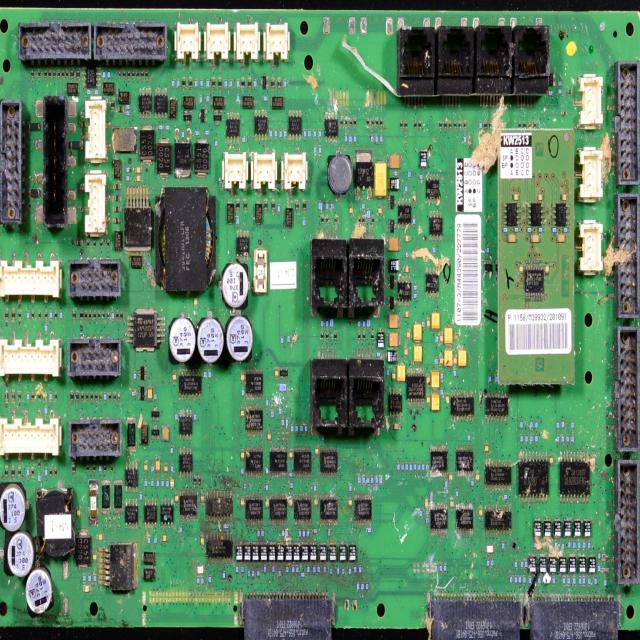Capacitor Jumper: (388, 152, 403, 169), (396, 364, 407, 386), (388, 333, 403, 349), (388, 235, 401, 252), (430, 392, 442, 410), (414, 343, 424, 363), (432, 310, 441, 332), (458, 349, 468, 368), (432, 371, 441, 392), (443, 327, 454, 344), (389, 314, 402, 328), (158, 531, 170, 546), (413, 322, 423, 340), (505, 232, 519, 244), (445, 347, 453, 368), (133, 165, 145, 176), (530, 233, 540, 246), (162, 424, 170, 440), (555, 233, 567, 243), (146, 387, 153, 404), (194, 565, 207, 574), (199, 534, 206, 549), (76, 503, 82, 520), (392, 422, 402, 432), (402, 265, 412, 274), (484, 442, 490, 457), (155, 457, 161, 472), (169, 475, 175, 490), (82, 585, 90, 596), (174, 490, 180, 504), (485, 545, 494, 554), (134, 173, 143, 182), (438, 354, 444, 367), (314, 445, 320, 458), (287, 447, 294, 458), (426, 393, 431, 408), (288, 495, 293, 510), (92, 550, 96, 568), (514, 192, 520, 204), (274, 369, 280, 381), (448, 472, 454, 484), (426, 317, 431, 331), (439, 332, 444, 346), (240, 494, 245, 508), (446, 390, 450, 407), (348, 495, 353, 508), (561, 193, 568, 202), (378, 205, 383, 217), (452, 356, 458, 366), (424, 497, 429, 509), (349, 203, 353, 217), (392, 368, 396, 382), (549, 454, 553, 468), (265, 497, 269, 511), (403, 345, 408, 356), (544, 266, 550, 275), (407, 329, 411, 342), (426, 374, 430, 387), (476, 471, 480, 484), (314, 497, 319, 507), (98, 535, 104, 543), (538, 194, 544, 202), (404, 310, 410, 318), (144, 460, 148, 472), (450, 498, 454, 510), (240, 448, 244, 459), (518, 266, 524, 273), (240, 375, 245, 383), (240, 408, 244, 418), (268, 429, 271, 438)
IC: (99, 546, 137, 594), (124, 184, 152, 249), (517, 451, 548, 504), (559, 451, 590, 503), (484, 503, 512, 538), (205, 491, 234, 522), (405, 366, 426, 408), (484, 460, 512, 490), (205, 532, 234, 560), (449, 388, 474, 420), (484, 392, 509, 424), (293, 493, 314, 527), (244, 492, 264, 526), (319, 493, 339, 526), (269, 492, 287, 528), (269, 444, 287, 480), (354, 494, 373, 528), (524, 266, 543, 300), (252, 108, 270, 142), (320, 444, 338, 478), (245, 368, 264, 400), (429, 446, 448, 478), (429, 504, 448, 535), (180, 487, 197, 521), (455, 445, 473, 477), (455, 504, 473, 535), (139, 83, 154, 120), (247, 444, 263, 478), (245, 406, 263, 436), (428, 210, 444, 243), (124, 459, 139, 493), (124, 497, 139, 530), (178, 410, 193, 442), (294, 446, 310, 476), (226, 111, 240, 144), (398, 198, 412, 230), (425, 173, 439, 204), (82, 64, 100, 88), (526, 202, 544, 226), (503, 203, 521, 227), (552, 203, 569, 228), (145, 495, 157, 530), (288, 110, 302, 140), (155, 87, 168, 119), (179, 446, 192, 478), (426, 267, 438, 298), (326, 112, 338, 142), (162, 498, 174, 525), (160, 496, 163, 508)
Resistor Jumper: (69, 66, 76, 82), (112, 182, 121, 192), (112, 205, 121, 215), (112, 214, 121, 224), (76, 64, 82, 78), (270, 77, 275, 93), (247, 76, 252, 91), (217, 76, 222, 91), (72, 308, 77, 323), (112, 193, 121, 201), (188, 76, 193, 90), (210, 76, 215, 90), (243, 198, 248, 212), (271, 199, 276, 213), (240, 77, 245, 90), (295, 200, 300, 213), (182, 76, 186, 92), (75, 239, 83, 247), (277, 77, 281, 91), (264, 198, 268, 212), (302, 198, 306, 212), (30, 67, 34, 80), (37, 68, 41, 81), (44, 67, 48, 79), (57, 67, 61, 79), (64, 68, 68, 80), (93, 311, 97, 322), (48, 68, 51, 82), (236, 198, 239, 212), (92, 239, 96, 249), (44, 310, 48, 320), (38, 310, 42, 320), (54, 310, 58, 320), (106, 311, 110, 321), (80, 308, 83, 321), (85, 309, 88, 322), (86, 239, 90, 248), (52, 66, 55, 77), (100, 240, 103, 250), (102, 309, 105, 319), (120, 312, 123, 322), (61, 68, 64, 77), (116, 310, 119, 319), (98, 311, 101, 320), (107, 240, 110, 248), (90, 310, 92, 322)
Transistor: (355, 160, 374, 205), (180, 108, 193, 125), (386, 270, 396, 291), (212, 109, 223, 127), (386, 217, 397, 234), (151, 424, 161, 442), (137, 386, 148, 402), (387, 193, 396, 212), (259, 75, 269, 92), (138, 364, 148, 381), (150, 406, 160, 423), (387, 294, 396, 312), (198, 108, 208, 124)
